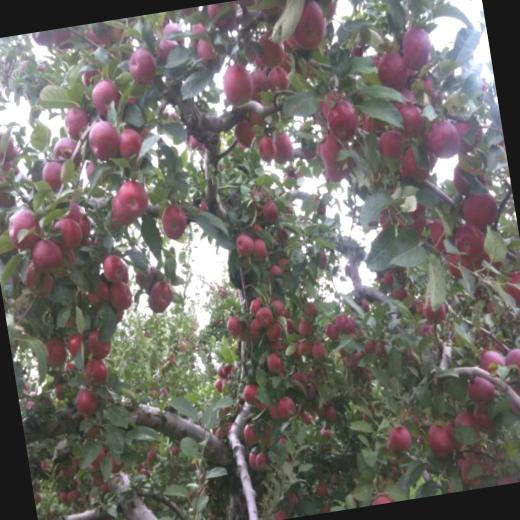Apple: (0, 0, 520, 520), (320, 87, 368, 150)
